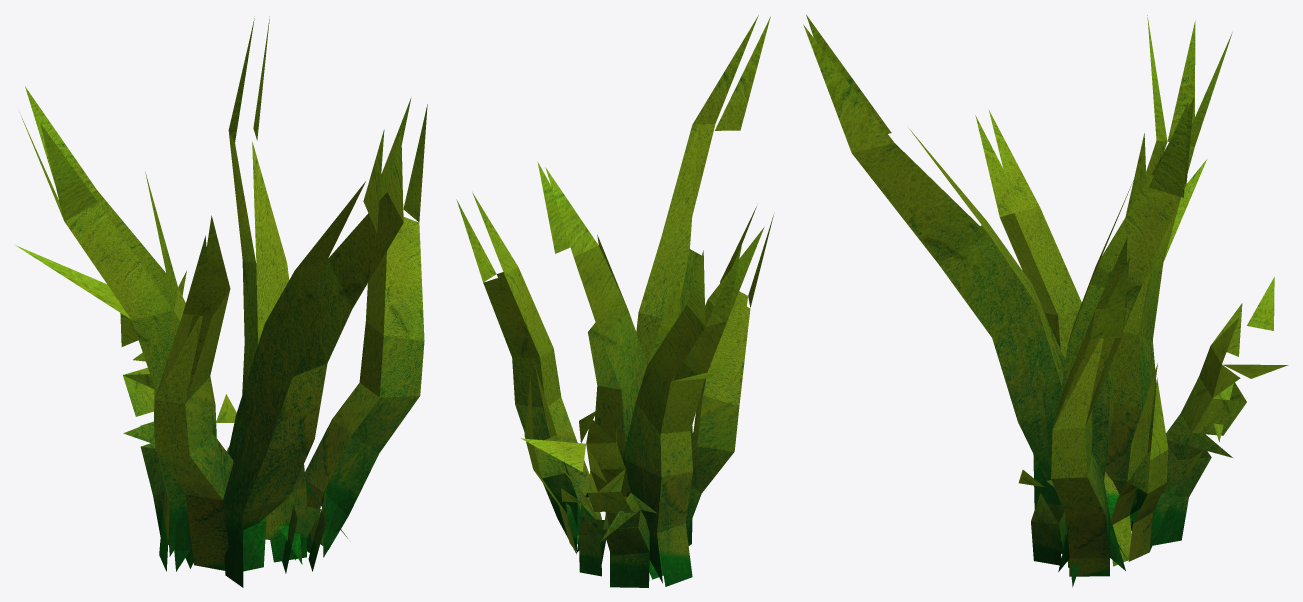
The model's file is algas.glb.
3 views of the same model, side by side, from view 1: azimuth 30°, elevation 25°; view 2: azimuth 150°, elevation 25°; view 3: azimuth 270°, elevation 25° (orthographic). The views are drawn at different scales.
Parts seen in each view (by area): view 1: Object_2; view 2: Object_2; view 3: Object_2.
Part boxes in pixels (left/top/right/bottom): Object_2: left=15, top=16, right=427, bottom=587; Object_2: left=456, top=15, right=773, bottom=587; Object_2: left=803, top=14, right=1288, bottom=587.
Size of the model in its own units: 3.33 by 4.58 by 3.81.
1 material, 1 textured.
